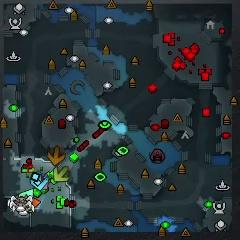p2: (18, 188, 35, 198)
p5: (30, 197, 41, 208)
x2: (53, 166, 69, 182)
x3: (31, 172, 49, 190)
x5: (47, 146, 66, 166)
